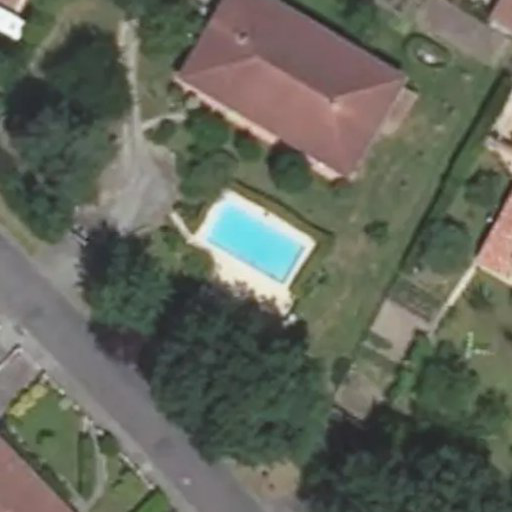pool: (203, 238, 307, 245)
